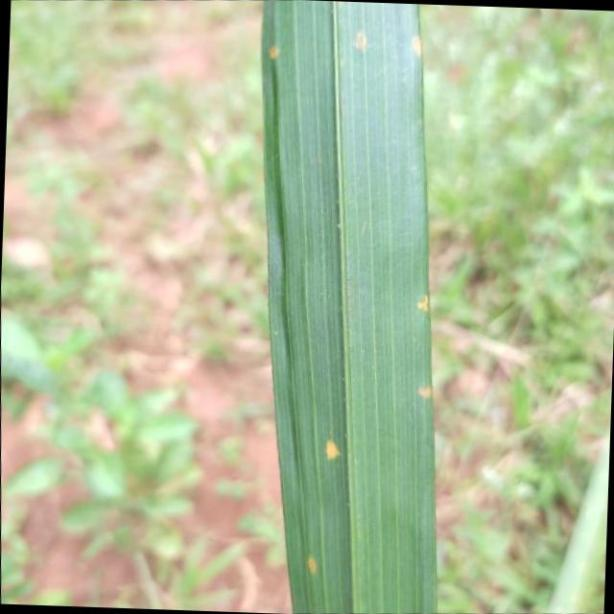Kalium: (262, 3, 442, 614)
